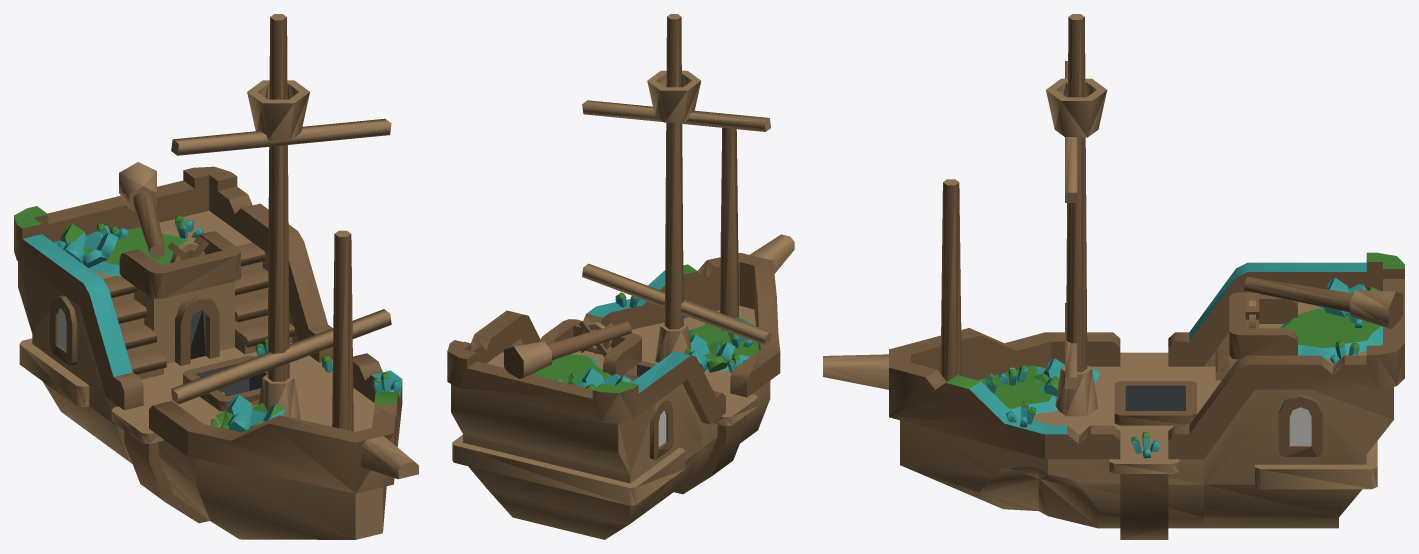
Rendered from cc0-shipwreck.glb.
3 views of the same model, side by side, from view 1: azimuth 30°, elevation 25°; view 2: azimuth 150°, elevation 25°; view 3: azimuth 270°, elevation 25° (orthographic). The views are drawn at different scales.
Visible parts, largest first — view 1: cc0-shipwreck; view 2: cc0-shipwreck; view 3: cc0-shipwreck.
Part boxes in pixels (left/top/right/bottom): cc0-shipwreck: left=14, top=14, right=418, bottom=539; cc0-shipwreck: left=447, top=14, right=794, bottom=539; cc0-shipwreck: left=823, top=14, right=1404, bottom=539.
Bounding box in the file's own units: 5.43 × 11.28 × 12.
